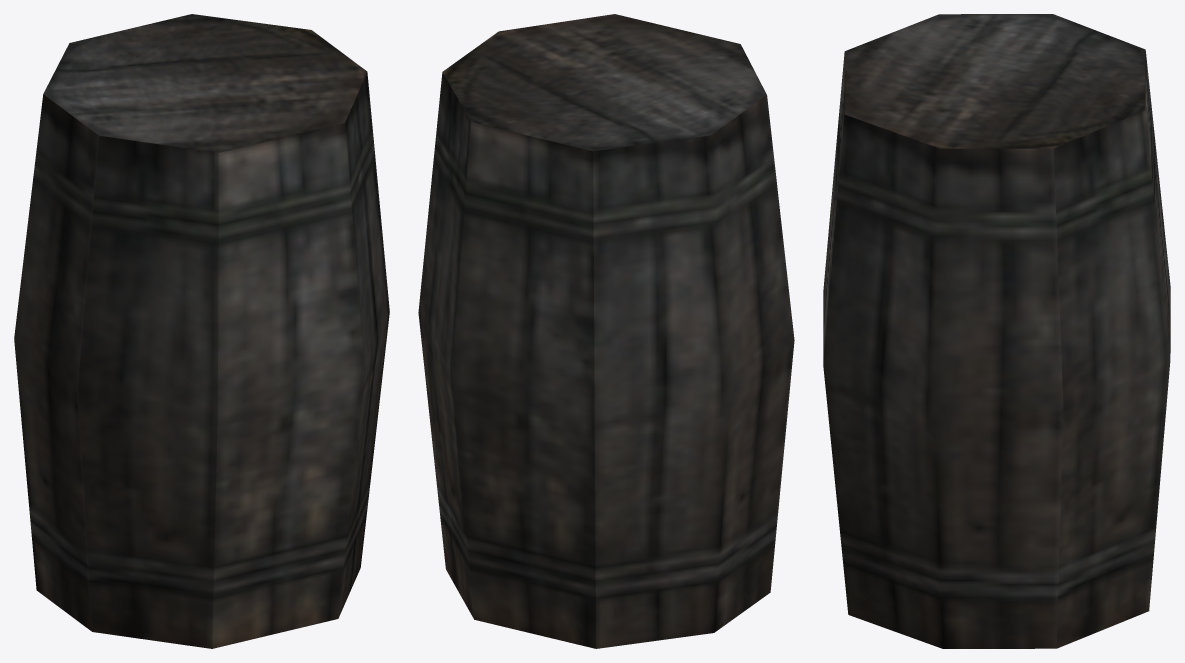
The model's file is d_sg_shouyou_mutong01_qt.FBX.
3 renders of one model, left to right at view 1: azimuth 30°, elevation 25°; view 2: azimuth 150°, elevation 25°; view 3: azimuth 270°, elevation 25°, orthographic.
Visible parts, largest first — view 1: d_sgsj_shouyou_xiangzi01_qt; view 2: d_sgsj_shouyou_xiangzi01_qt; view 3: d_sgsj_shouyou_xiangzi01_qt.
Part boxes in pixels (x1=…): d_sgsj_shouyou_xiangzi01_qt: x1=14, y1=14, x2=389, y2=648; d_sgsj_shouyou_xiangzi01_qt: x1=418, y1=14, x2=794, y2=648; d_sgsj_shouyou_xiangzi01_qt: x1=823, y1=14, x2=1170, y2=648.
Size of the model in its own units: 1.05 by 1.6 by 1.
